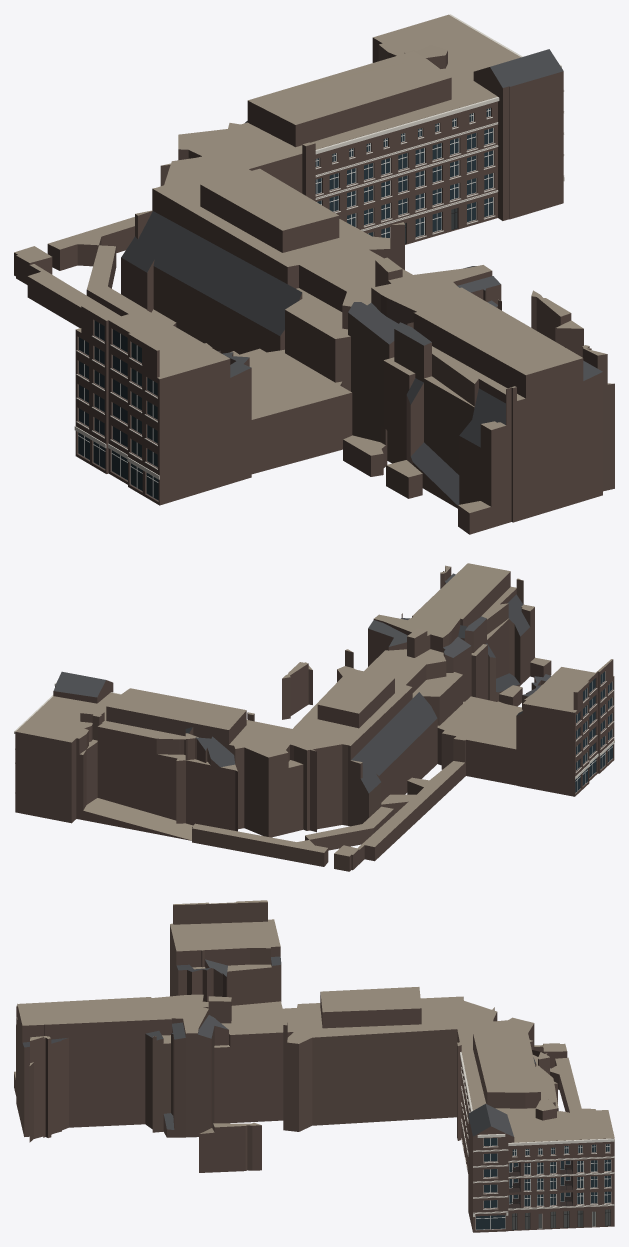
The model's file is recipe-large-piri-reisplein-1-81-238346.glb.
The picture shows the model from 3 angles, top to bottom: view 1: azimuth 30°, elevation 25°; view 2: azimuth 150°, elevation 25°; view 3: azimuth 270°, elevation 25°; orthographic projection. The views are drawn at different scales.
Visible parts, largest first — view 1: piri-reisplein-1-81-238346; view 2: piri-reisplein-1-81-238346; view 3: piri-reisplein-1-81-238346.
Part boxes in pixels (left/top/right/bottom): piri-reisplein-1-81-238346: left=14, top=14, right=614, bottom=534; piri-reisplein-1-81-238346: left=14, top=563, right=614, bottom=871; piri-reisplein-1-81-238346: left=14, top=900, right=614, bottom=1232.
Bounding box in the file's own units: 83.82 × 19.57 × 95.74.
